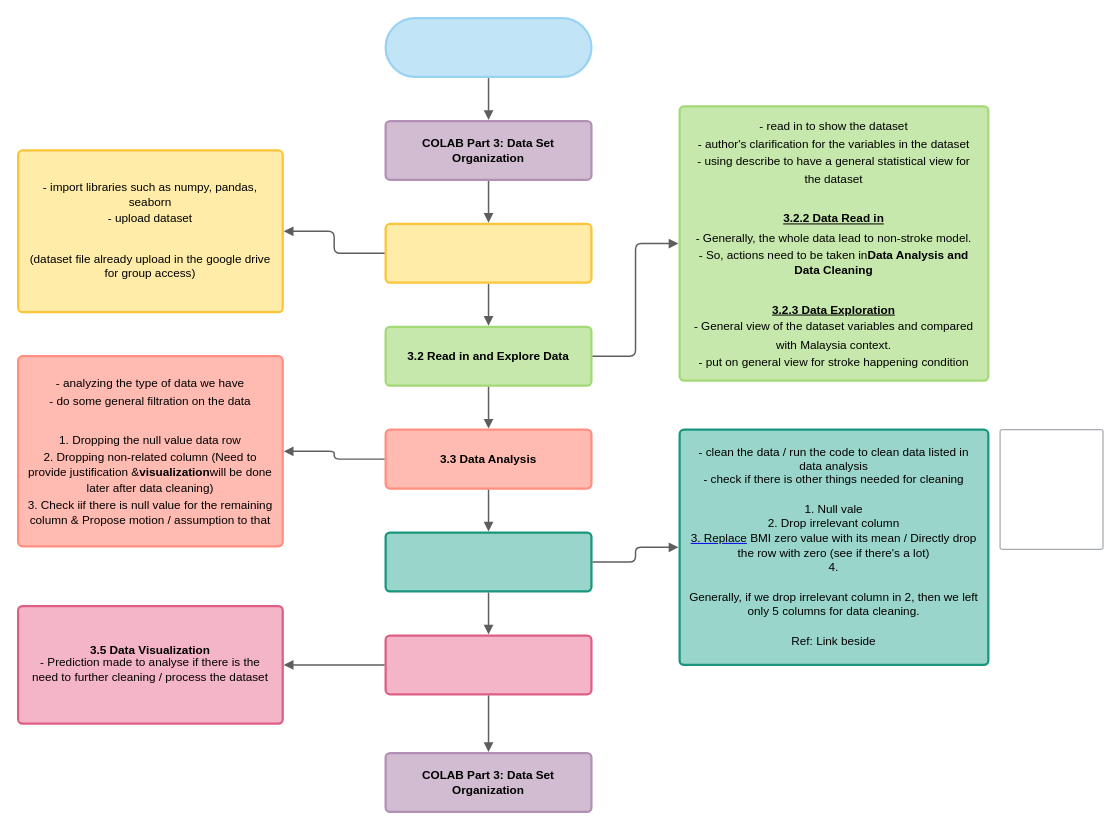
The diagram is 1120 pixels wide and 830 high, and some of its shapes have lost their labels. Each missing label, with the box of its shape:
3.1 Import Necessary Library: (384, 222, 592, 283)
3.4 Data Cleaning: (384, 531, 592, 592)
3.5 Data Visualization: (384, 634, 592, 695)
Topic: Stroke Prediction with Machine Learning: (384, 17, 592, 78)
